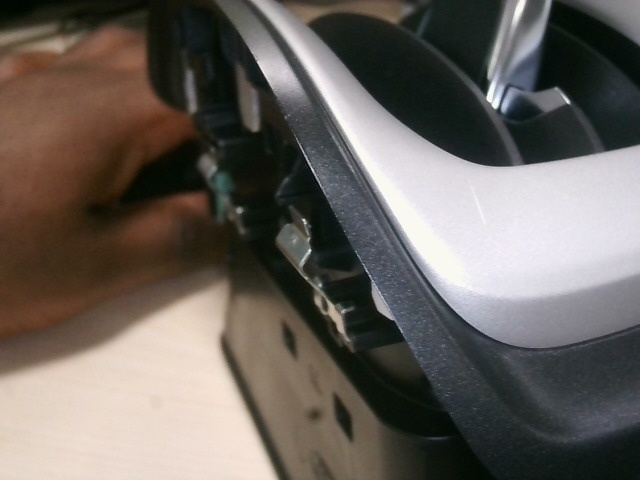NG: (462, 180, 496, 227), (282, 96, 314, 143)
